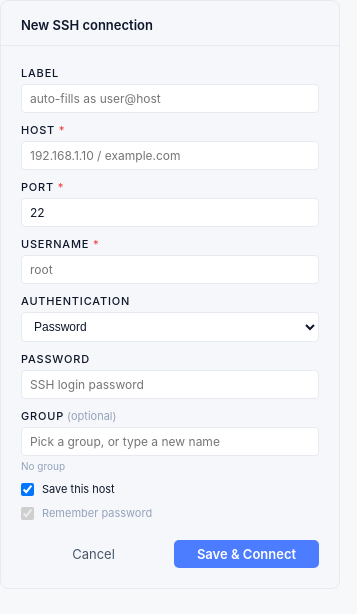
Test: HostForm › ppk keys visible but disabled after switching to key mode
Select "Key file…" in the dropdown labelled "Authentication" at coordinates (170, 327), box [21, 312, 319, 342]
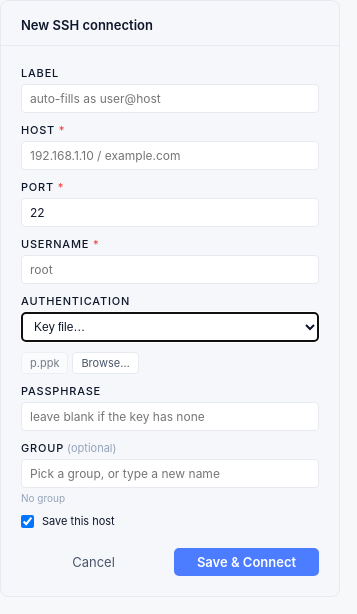
Check: the button "p.ppk" is shown, box [21, 352, 68, 374]
